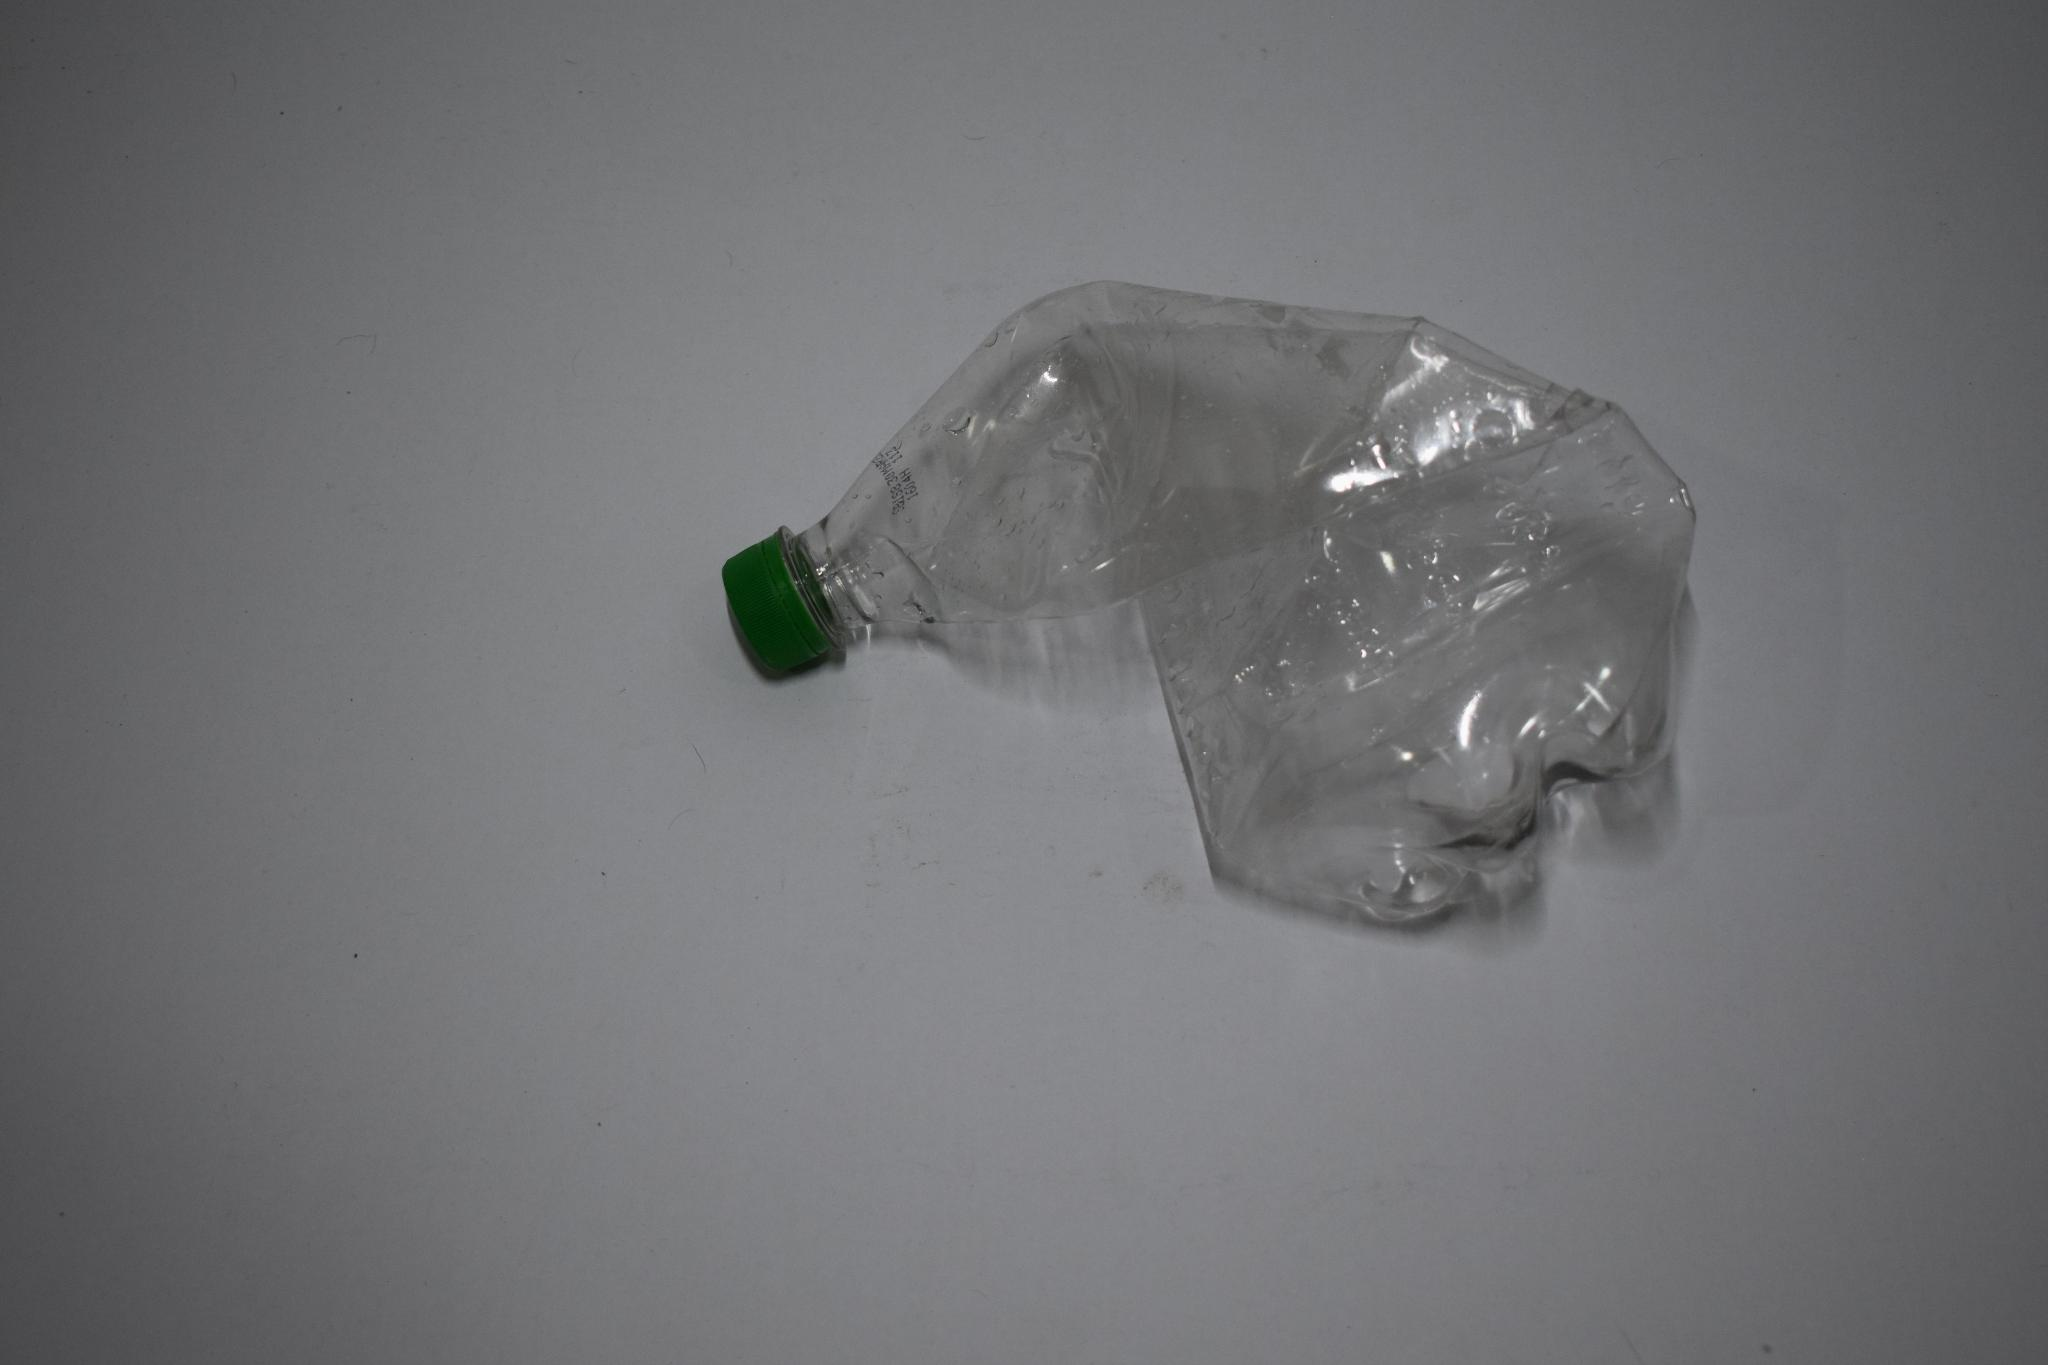bottle: (710, 254, 1738, 980)
